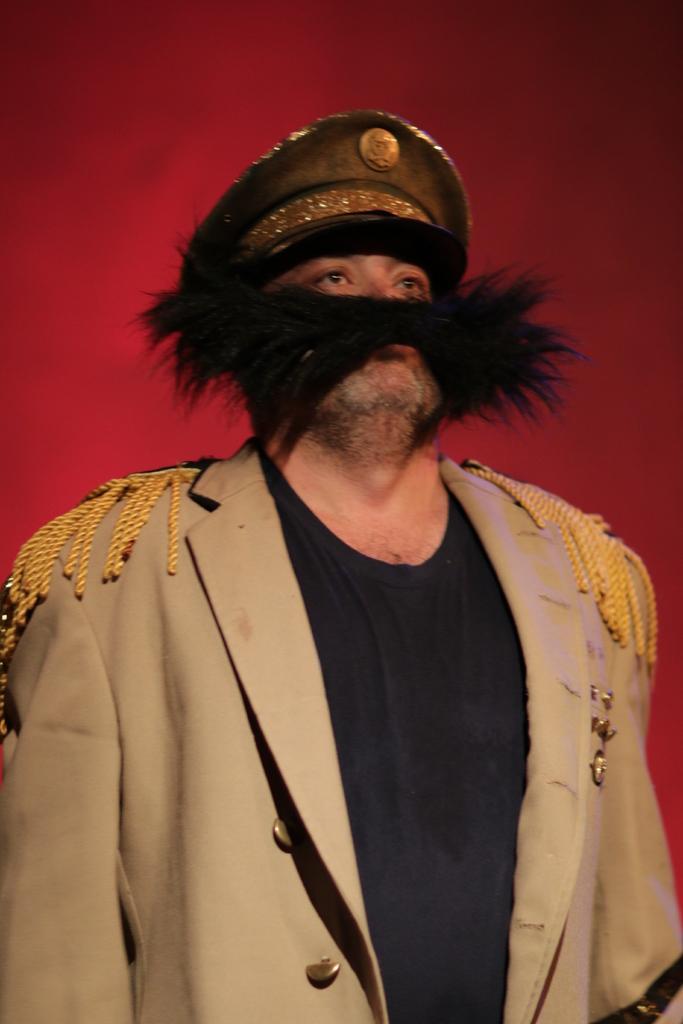Hat: (189, 113, 464, 304)
